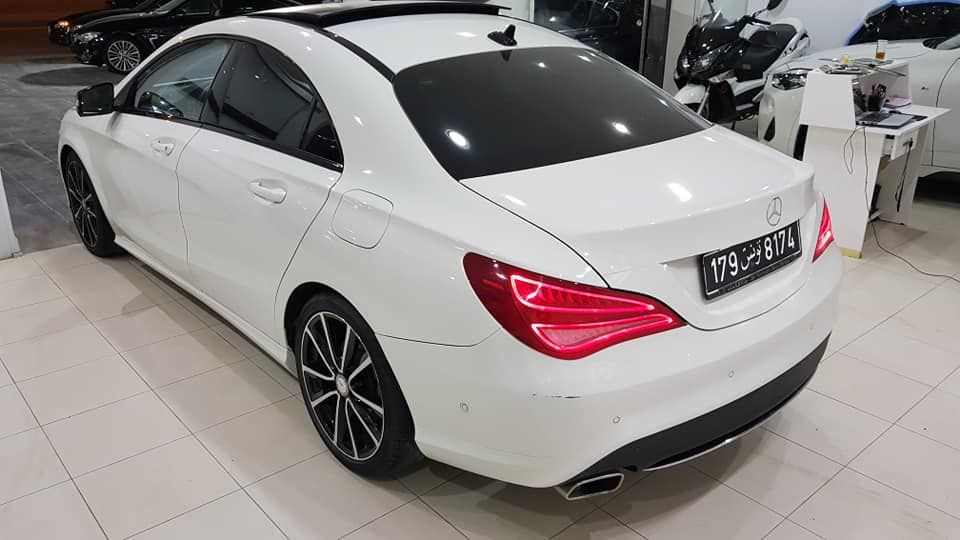LP: (707, 218, 802, 290)
